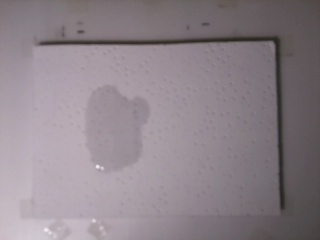Water_detected: (99, 103, 140, 163)
